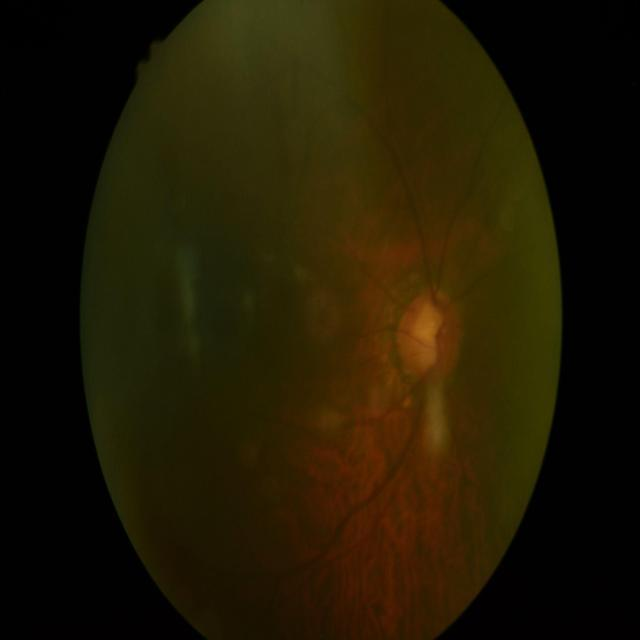cup: (412, 304, 448, 370)
disk: (395, 286, 466, 388)
